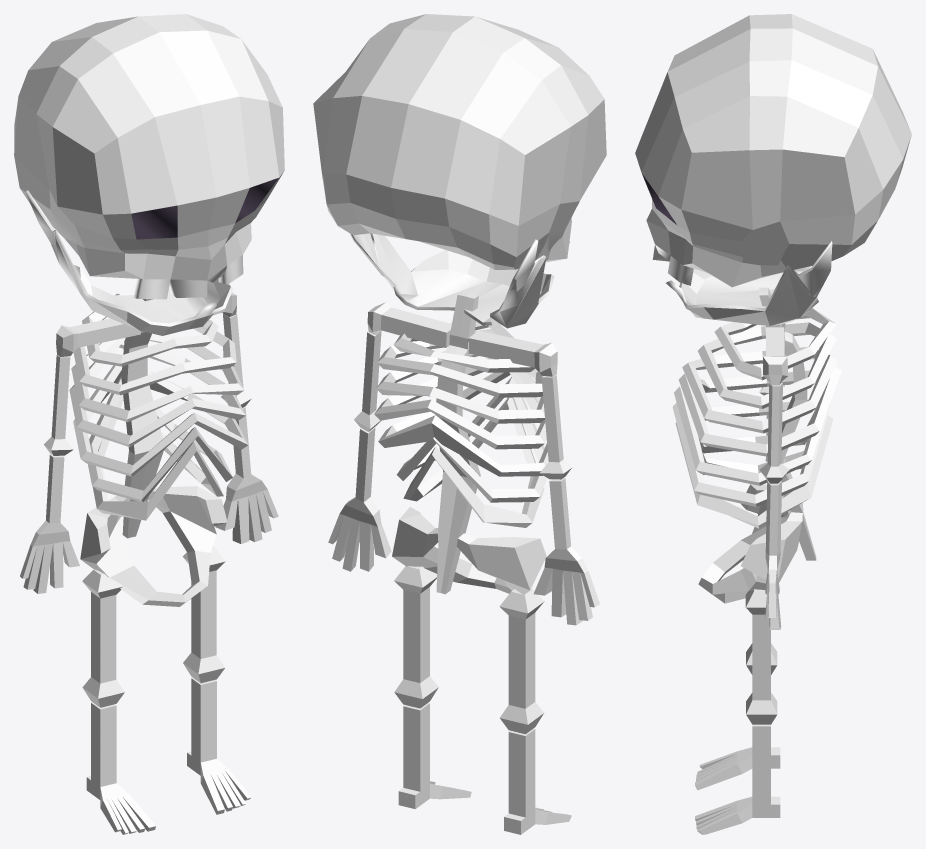
The model's file is skeleton.fbx.
The picture shows the model from 3 angles, left to right: view 1: azimuth 30°, elevation 25°; view 2: azimuth 150°, elevation 25°; view 3: azimuth 270°, elevation 25°; orthographic projection. The views are drawn at different scales.
Parts seen in each view (by area): view 1: Skull, RibCage, SpinePelvis, Jaw, RightLeg, LeftLeg, RightForearm, RightFemur, LeftForearm, LeftFemur, RightShoulder, RightUpperArm (+1 smaller); view 2: Skull, RibCage, SpinePelvis, Jaw, RightForearm, RightFemur, LeftForearm, LeftFemur, RightLeg, LeftLeg, RightShoulder, LeftShoulder (+2 smaller); view 3: Skull, RibCage, Jaw, SpinePelvis, LeftLeg, LeftFemur, LeftForearm, RightLeg, LeftUpperArm, LeftShoulder.
Boxes of the visible parts, x1=… form: Skull: x1=14, y1=14, x2=284, y2=299; RibCage: x1=69, y1=293, x2=248, y2=520; SpinePelvis: x1=80, y1=299, x2=227, y2=606; Jaw: x1=25, y1=190, x2=232, y2=335; RightLeg: x1=86, y1=702, x2=155, y2=834; LeftLeg: x1=187, y1=678, x2=251, y2=814; RightForearm: x1=20, y1=454, x2=79, y2=593; RightFemur: x1=82, y1=569, x2=124, y2=707; LeftForearm: x1=215, y1=407, x2=278, y2=543; LeftFemur: x1=182, y1=546, x2=225, y2=683; RightShoulder: x1=56, y1=318, x2=140, y2=356; RightUpperArm: x1=44, y1=355, x2=73, y2=455; Skull: x1=313, y1=14, x2=606, y2=269; RibCage: x1=374, y1=321, x2=548, y2=527; SpinePelvis: x1=392, y1=291, x2=546, y2=594; Jaw: x1=350, y1=233, x2=554, y2=328; RightForearm: x1=533, y1=478, x2=599, y2=625; RightFemur: x1=499, y1=589, x2=544, y2=734; LeftForearm: x1=328, y1=427, x2=391, y2=571; LeftFemur: x1=394, y1=566, x2=438, y2=708; RightLeg: x1=504, y1=728, x2=571, y2=834; LeftLeg: x1=398, y1=703, x2=471, y2=809; RightShoulder: x1=468, y1=330, x2=557, y2=376; LeftShoulder: x1=367, y1=302, x2=451, y2=347; Skull: x1=635, y1=14, x2=911, y2=287; RibCage: x1=672, y1=308, x2=841, y2=528; Jaw: x1=665, y1=241, x2=832, y2=325; SpinePelvis: x1=698, y1=287, x2=816, y2=603; LeftLeg: x1=695, y1=724, x2=780, y2=834; LeftFemur: x1=745, y1=589, x2=777, y2=724; LeftForearm: x1=765, y1=481, x2=781, y2=629; RightLeg: x1=695, y1=747, x2=780, y2=790; LeftUpperArm: x1=759, y1=382, x2=788, y2=483; LeftShoulder: x1=763, y1=327, x2=788, y2=385.
Size of the model in its own units: 59.75 by 172 by 55.5.
